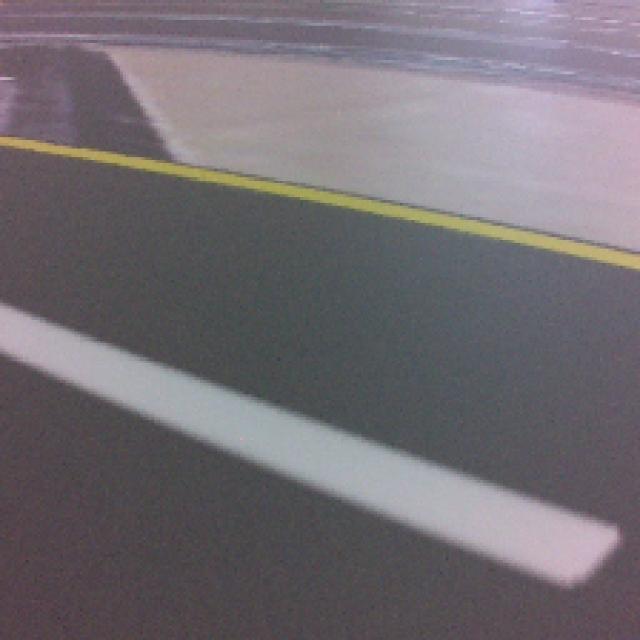Pedestrian crosswalk: (0, 303, 623, 591)
